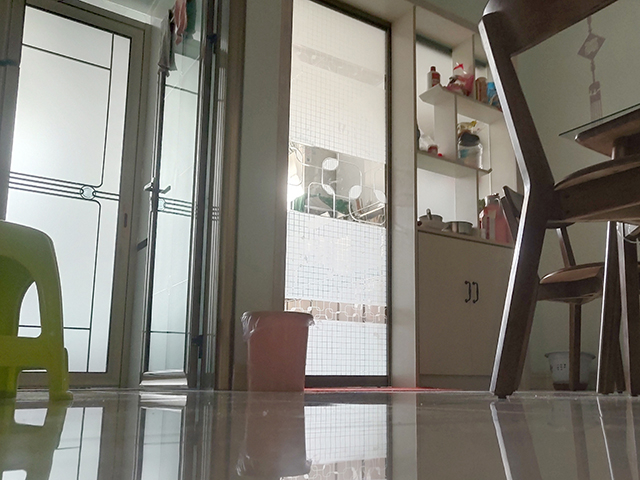cabinet: (402, 226, 527, 392)
carpet: (303, 385, 461, 395)
stool: (478, 1, 640, 402), (496, 183, 640, 395), (1, 217, 76, 403)
table: (557, 100, 640, 399)
trashcan: (239, 309, 317, 395)
